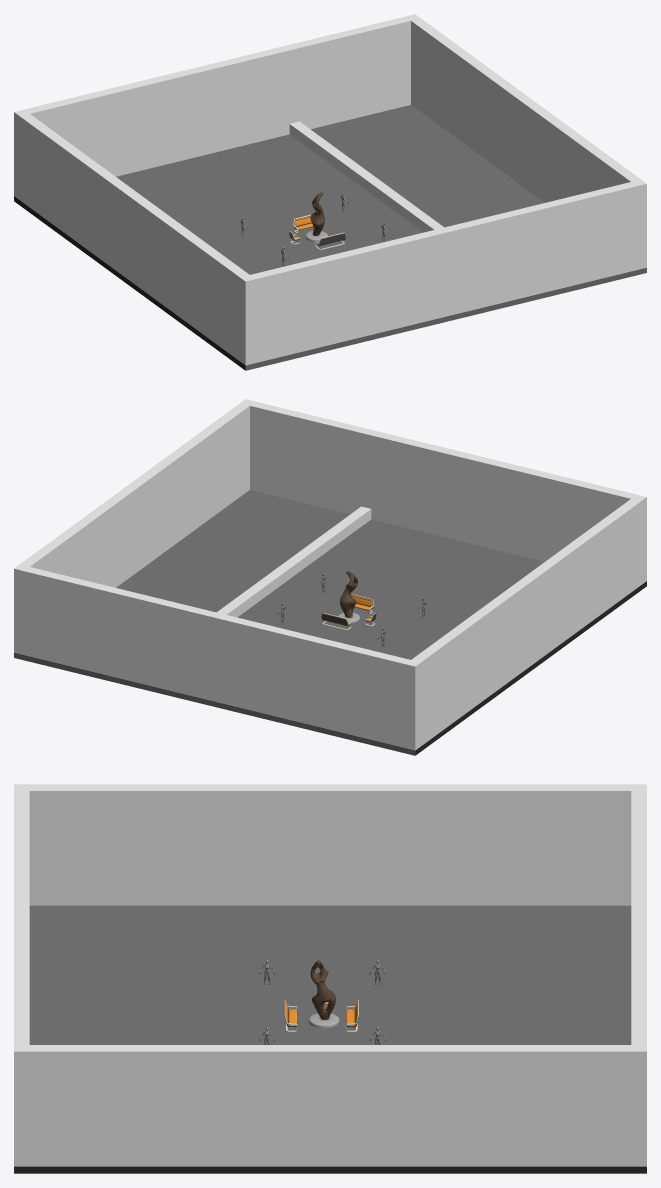
The model's file is level_enclosed.gltf.
The picture shows the model from 3 angles, top to bottom: view 1: azimuth 30°, elevation 25°; view 2: azimuth 150°, elevation 25°; view 3: azimuth 270°, elevation 25°; orthographic projection. The views are drawn at different scales.
Parts seen in each view (by area): view 1: Floor, Cube5, Cube4, Cube2, Cube3, Cube, SM_Statue; view 2: Floor, Cube4, Cube5, Cube2, Cube3, Cube, SM_Statue; view 3: Floor, Cube3, Cube2, Cube4, Cube5, SM_Statue.
Boxes of the visible parts, left/top/right/bottom form: Floor: left=14, top=105, right=646, bottom=370; Cube5: left=250, top=182, right=636, bottom=362; Cube4: left=24, top=16, right=410, bottom=176; Cube2: left=14, top=109, right=255, bottom=365; Cube3: left=405, top=14, right=646, bottom=269; Cube: left=289, top=121, right=525, bottom=299; SM_Statue: left=305, top=192, right=327, bottom=241; Floor: left=14, top=490, right=646, bottom=755; Cube4: left=24, top=567, right=410, bottom=747; Cube5: left=250, top=401, right=636, bottom=561; Cube2: left=405, top=494, right=646, bottom=750; Cube3: left=14, top=399, right=255, bottom=654; Cube: left=135, top=506, right=371, bottom=684; SM_Statue: left=338, top=571, right=359, bottom=623; Floor: left=14, top=905, right=646, bottom=1173; Cube3: left=14, top=1045, right=646, bottom=1166; Cube2: left=14, top=784, right=646, bottom=905; Cube4: left=631, top=791, right=646, bottom=1044; Cube5: left=14, top=791, right=29, bottom=1044; SM_Statue: left=309, top=960, right=339, bottom=1028.
Size of the model in its own units: 40 by 8.5 by 40.
7 materials, 6 textured.
